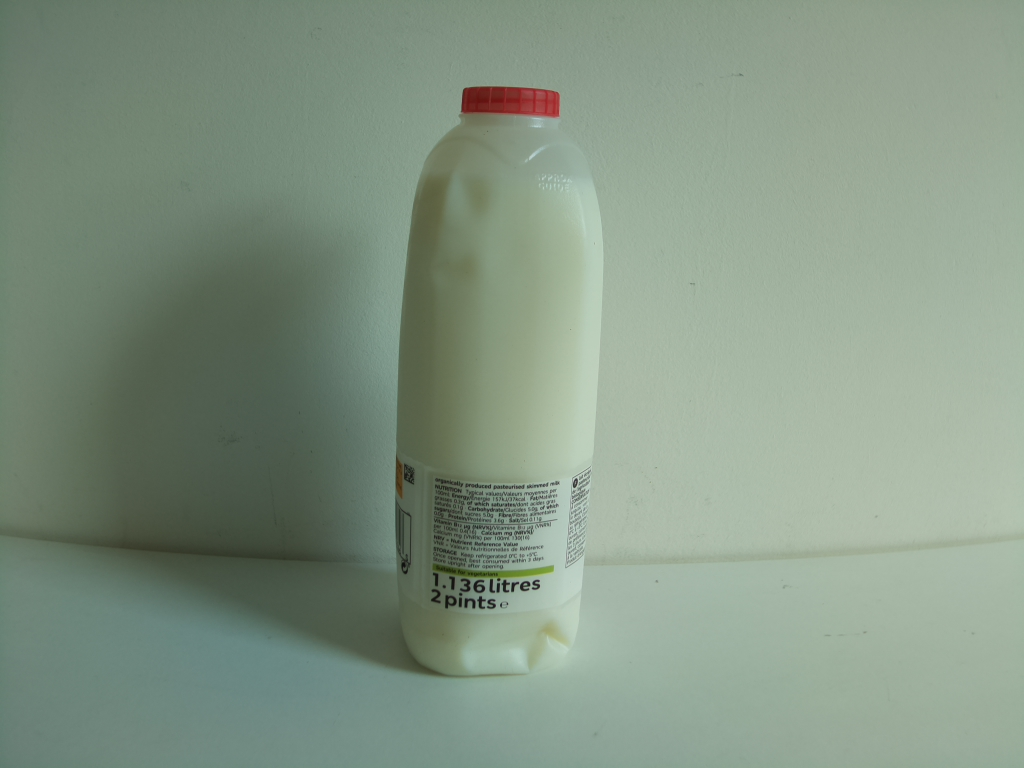milk: (387, 80, 608, 682)
